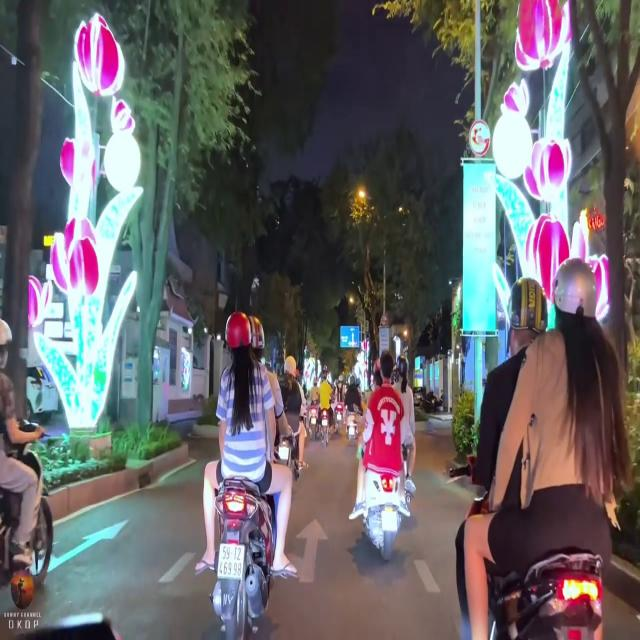bien_trang: (216, 542, 246, 584)
